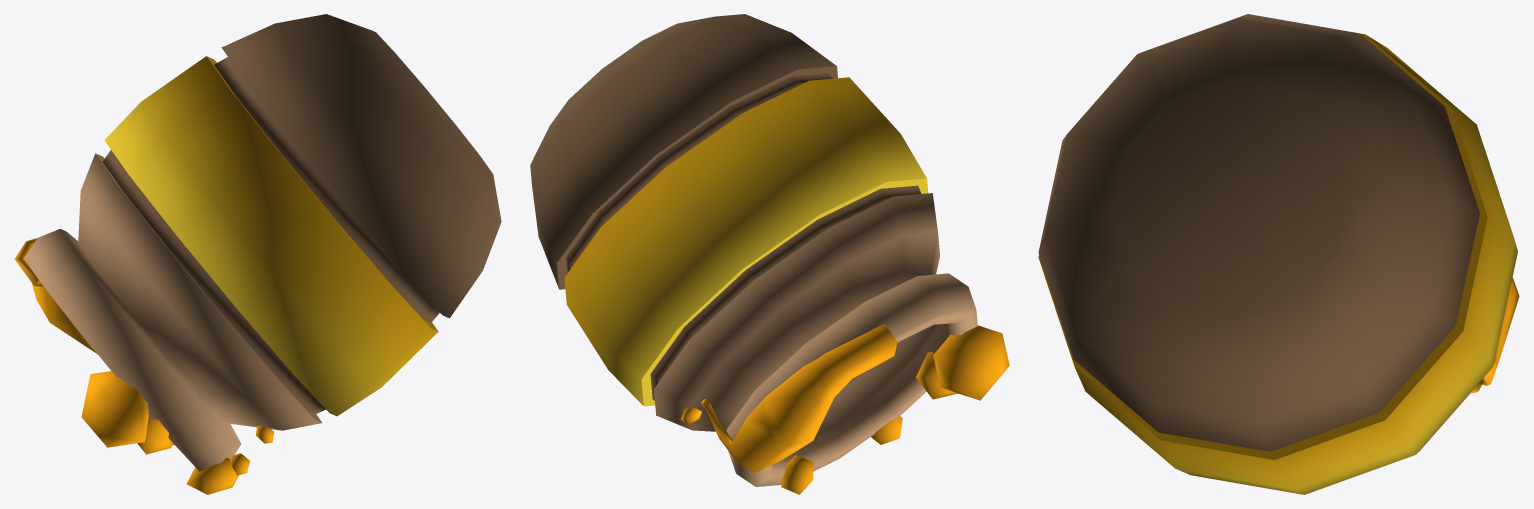
Rendered from honey.obj.
3 views of the same model, side by side, from view 1: azimuth 30°, elevation 25°; view 2: azimuth 150°, elevation 25°; view 3: azimuth 270°, elevation 25° (orthographic). The views are drawn at different scales.
Parts seen in each view (by area): view 1: dynamic; view 2: dynamic; view 3: dynamic.
Boxes of the visible parts, x1,y1,x2,y2 form: dynamic: (14,14,501,494); dynamic: (530,14,1009,494); dynamic: (1038,14,1519,494).
Bounding box in the file's own units: 9.14 × 8.55 × 7.27.
Materials: 2 (1 with a texture image).
